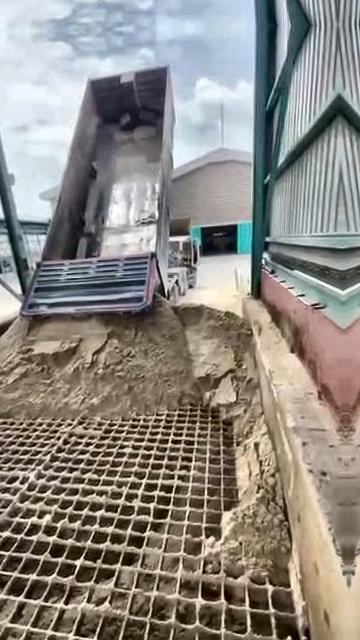sand: (0, 298, 289, 581)
